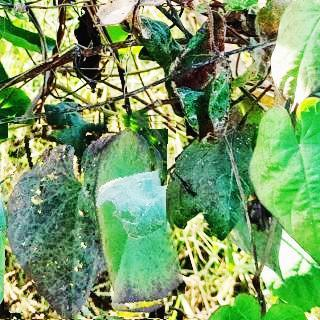leaf spot: (0, 115, 176, 319)
